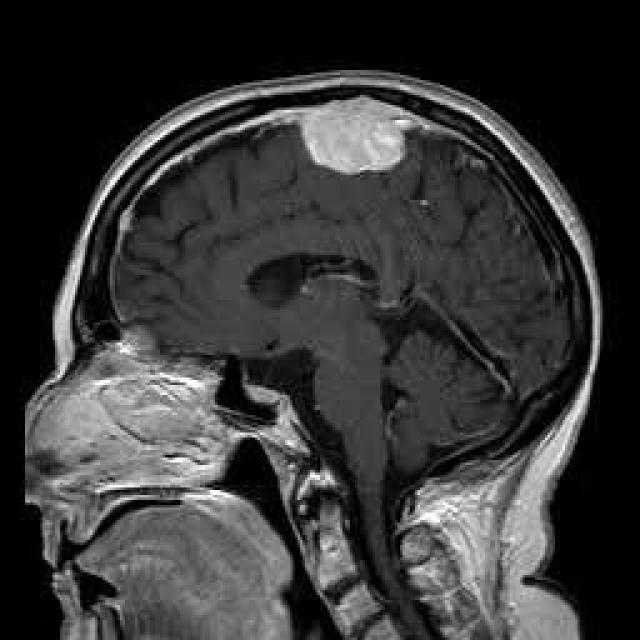brain_tumor: (301, 96, 405, 174)
